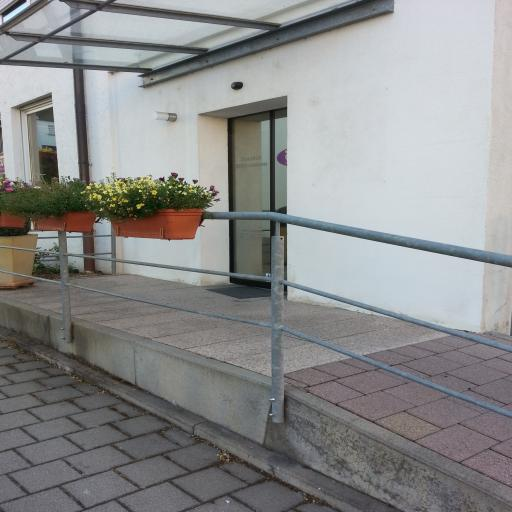ramp: (273, 328, 512, 512)
